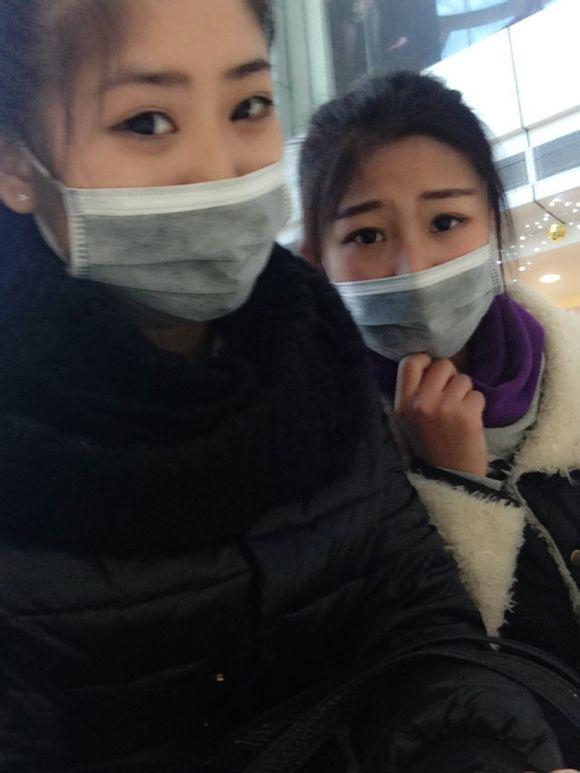WRONG: (61, 64, 312, 315), (333, 166, 497, 359)
